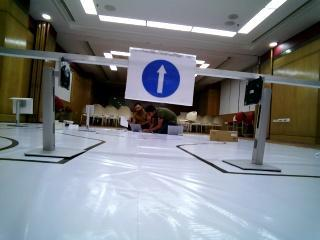straight: (130, 46, 199, 111)
